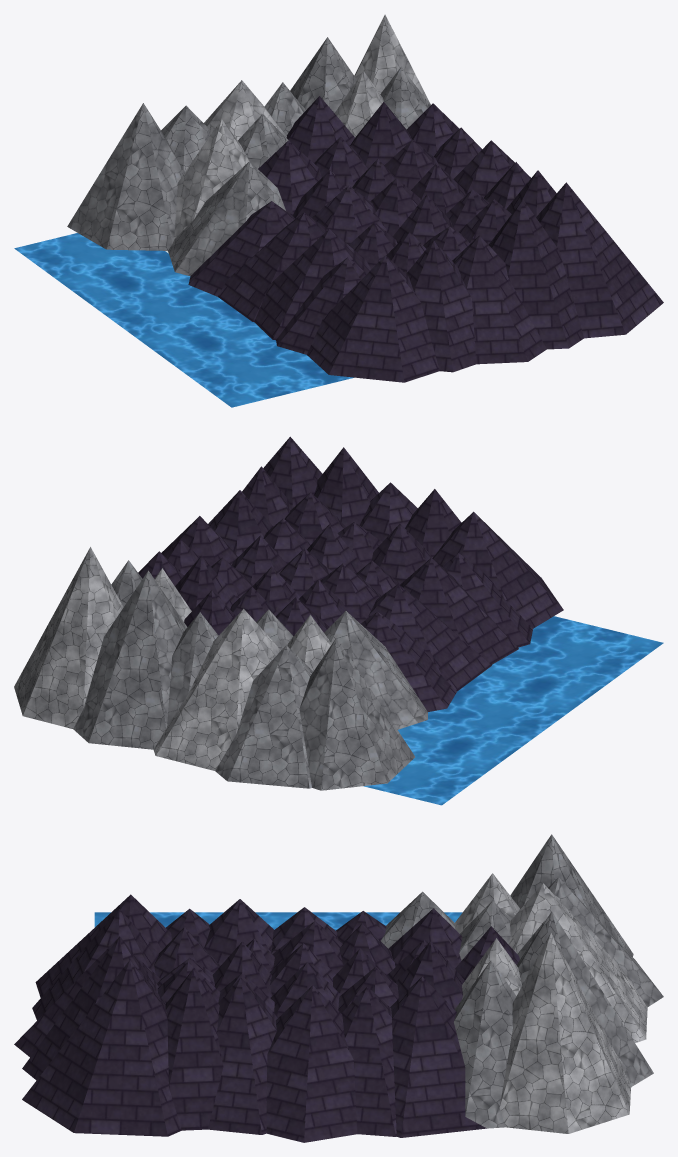
The model's file is chunk_4_24.glb.
3 views of the same model, one above another, from view 1: azimuth 30°, elevation 25°; view 2: azimuth 150°, elevation 25°; view 3: azimuth 270°, elevation 25° (orthographic). The views are drawn at different scales.
Parts seen in each view (by area): view 1: chunk_4_24; view 2: chunk_4_24; view 3: chunk_4_24.
Boxes of the visible parts, box(x1,y1,x2,y2) form: chunk_4_24: box(14, 14, 663, 407); chunk_4_24: box(14, 436, 663, 805); chunk_4_24: box(14, 834, 663, 1142).
Bounding box in the file's own units: 18.72 × 6.35 × 21.39.
Materials: 10 (9 with a texture image).
